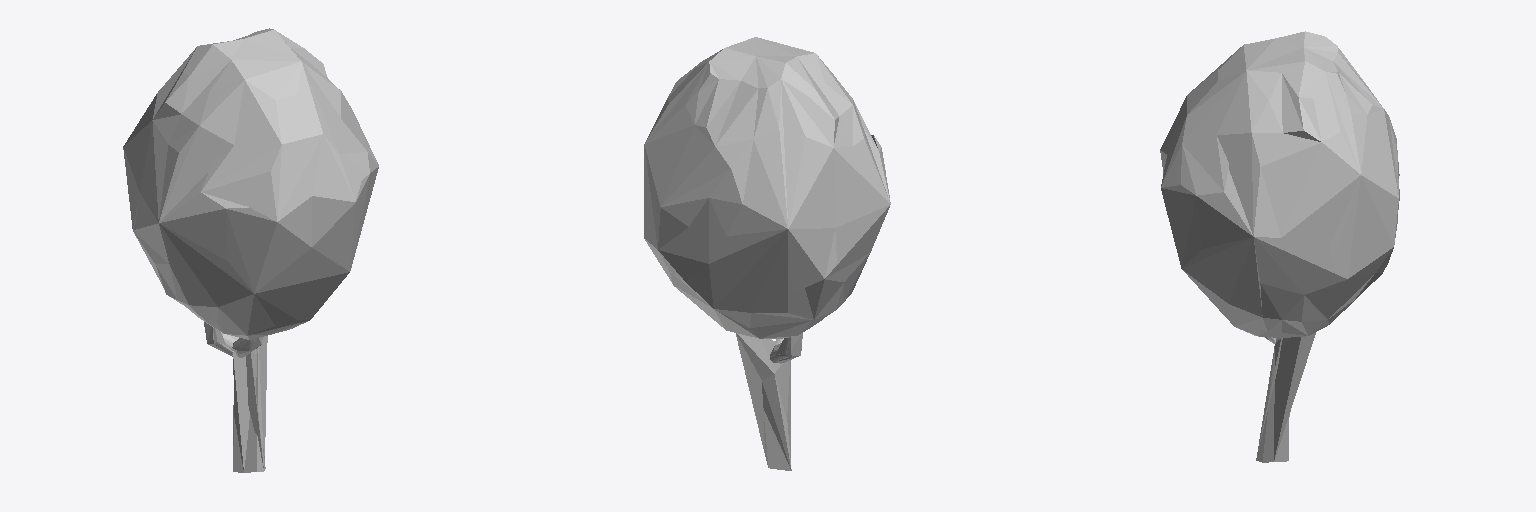
File: tree.obj
3 views of the same model, side by side, from view 1: azimuth 30°, elevation 25°; view 2: azimuth 150°, elevation 25°; view 3: azimuth 270°, elevation 25° (orthographic).
Parts seen in each view (by area): view 1: Cube_Cube.002; view 2: Cube_Cube.002; view 3: Cube_Cube.002.
Boxes of the visible parts, box(x1,y1,x2,y2) form: Cube_Cube.002: box(123, 28, 378, 472); Cube_Cube.002: box(644, 37, 890, 470); Cube_Cube.002: box(1160, 31, 1399, 462).
Size of the model in its own units: 1.29 by 2.35 by 1.22.